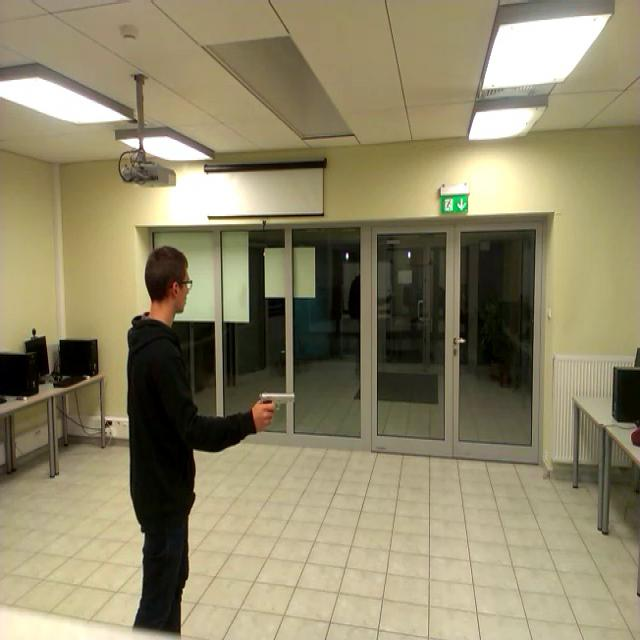handgun: (253, 379, 296, 430)
